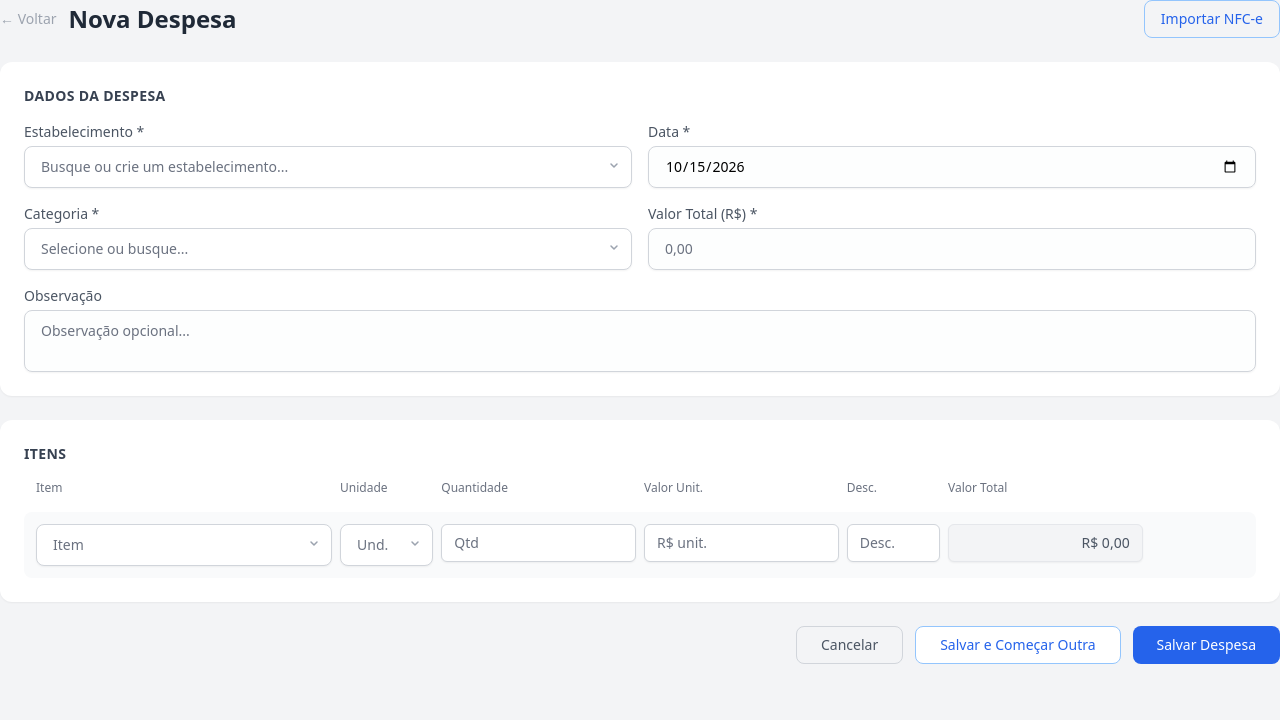
it: DespesaForm › adiciona uma nova linha vazia ao preencher a última
The image size is (1280, 720).
In the number field with test id "item-quantidade": (539, 543) [441,524,636,562], type "2"
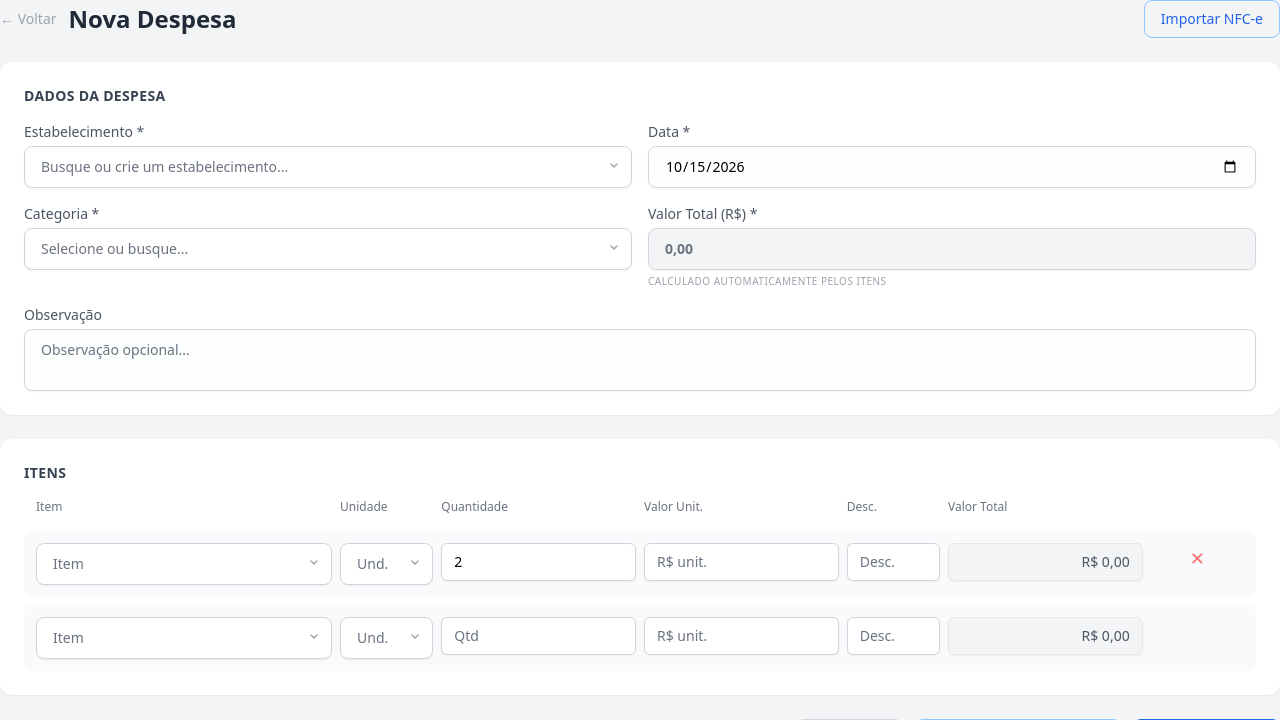
Check: the number of elements with test id "item-row" is 2, box [24,531,1256,597]; [24,605,1256,671]
